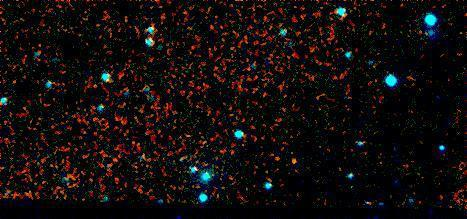star: (282, 148, 312, 178)
